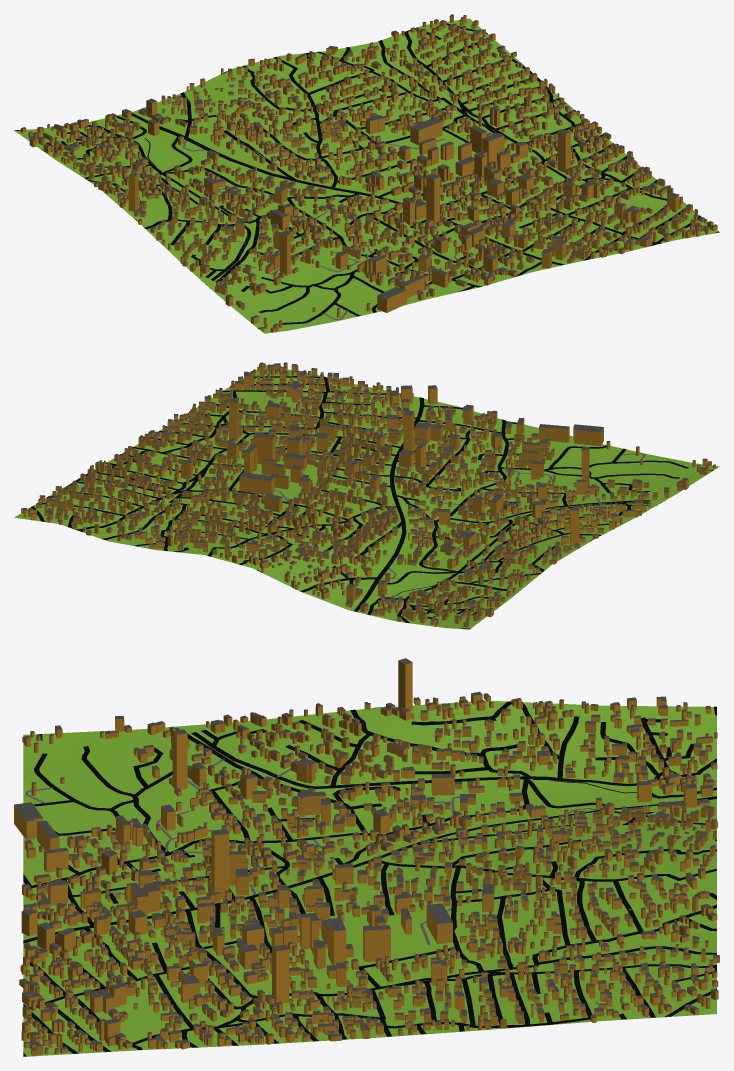
Rendered from tile_03_06.glb.
The picture shows the model from 3 angles, top to bottom: view 1: azimuth 30°, elevation 25°; view 2: azimuth 150°, elevation 25°; view 3: azimuth 270°, elevation 25°; orthographic projection. The views are drawn at different scales.
Parts seen in each view (by area): view 1: Ub_small.osm_buildings_03_06, Terrain_03_06, Ub_small.osm_roads_residential_03_06, Ub_small.osm_roads_secondary_03_06, Ub_small.osm_roads_tertiary_03_06; view 2: Ub_small.osm_buildings_03_06, Terrain_03_06, Ub_small.osm_roads_residential_03_06, Ub_small.osm_roads_secondary_03_06, Ub_small.osm_roads_tertiary_03_06; view 3: Ub_small.osm_buildings_03_06, Terrain_03_06, Ub_small.osm_roads_residential_03_06, Ub_small.osm_roads_tertiary_03_06, Ub_small.osm_roads_secondary_03_06, Ub_small.osm_roads_service_03_06, Ub_small.osm_roads_unclassified_03_06.
Boxes of the visible parts, x1,y1,x2,y2 form: Ub_small.osm_buildings_03_06: (20,14,717,332); Terrain_03_06: (14,18,719,333); Ub_small.osm_roads_residential_03_06: (14,22,719,328); Ub_small.osm_roads_secondary_03_06: (131,113,563,265); Ub_small.osm_roads_tertiary_03_06: (161,136,251,285); Ub_small.osm_buildings_03_06: (21,362,715,627); Terrain_03_06: (14,366,719,629); Ub_small.osm_roads_residential_03_06: (30,365,713,629); Ub_small.osm_roads_secondary_03_06: (354,397,424,611); Ub_small.osm_roads_tertiary_03_06: (378,502,662,584); Ub_small.osm_buildings_03_06: (14,658,719,1056); Terrain_03_06: (23,700,716,1056); Ub_small.osm_roads_residential_03_06: (23,701,716,1056); Ub_small.osm_roads_tertiary_03_06: (191,732,616,808); Ub_small.osm_roads_secondary_03_06: (23,796,716,943); Ub_small.osm_roads_service_03_06: (25,758,599,944); Ub_small.osm_roads_unclassified_03_06: (497,716,579,968).
Size of the model in its own units: 990 by 136 by 947.
